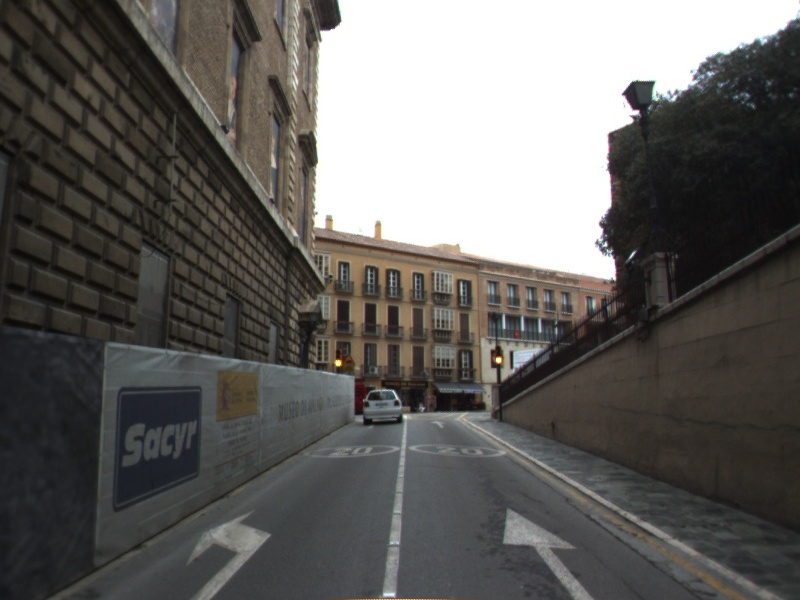LEFT: (184, 508, 273, 600)
STRAIGHT: (501, 506, 596, 600), (429, 419, 448, 430)
